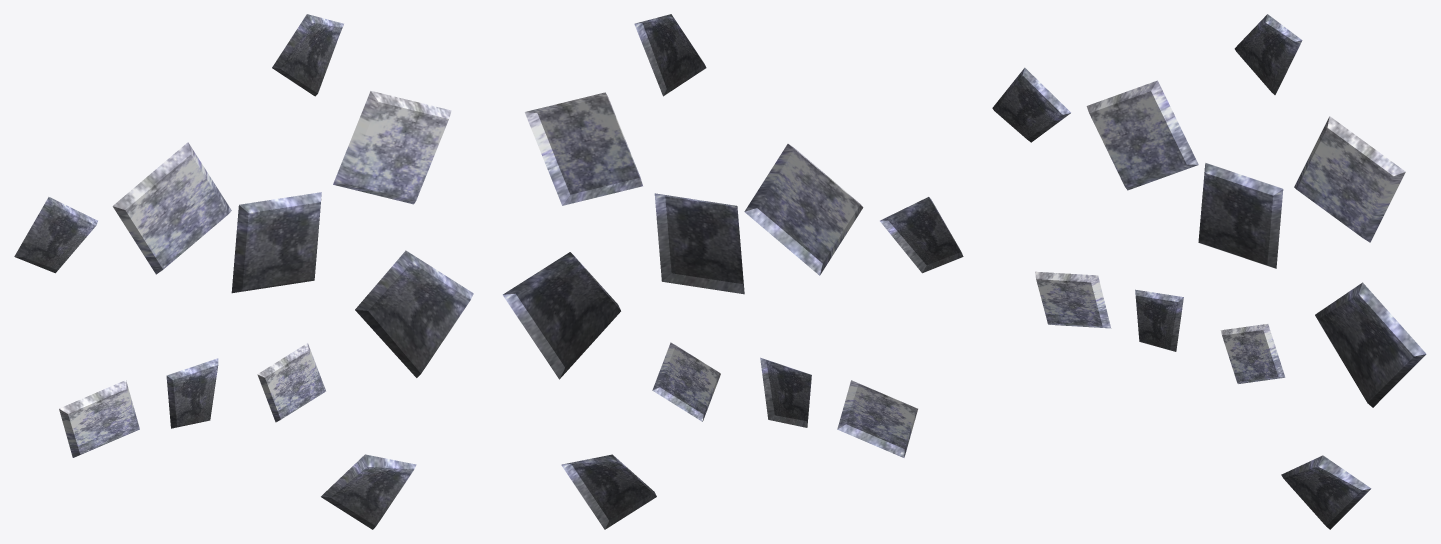
3 renders of one model, left to right at view 1: azimuth 30°, elevation 25°; view 2: azimuth 150°, elevation 25°; view 3: azimuth 330°, elevation 25°, orthographic. The views are drawn at different scales.
Parts seen in each view (by area): view 1: model_Object14; view 2: model_Object14; view 3: model_Object14.
Part boxes in pixels (box(x1,y1,x2,y2)): model_Object14: box(14, 14, 473, 529); model_Object14: box(502, 14, 963, 529); model_Object14: box(992, 14, 1426, 529).
Size of the model in its own units: 4.25 by 4.69 by 0.0824.
Materials: 1 (1 with a texture image).
